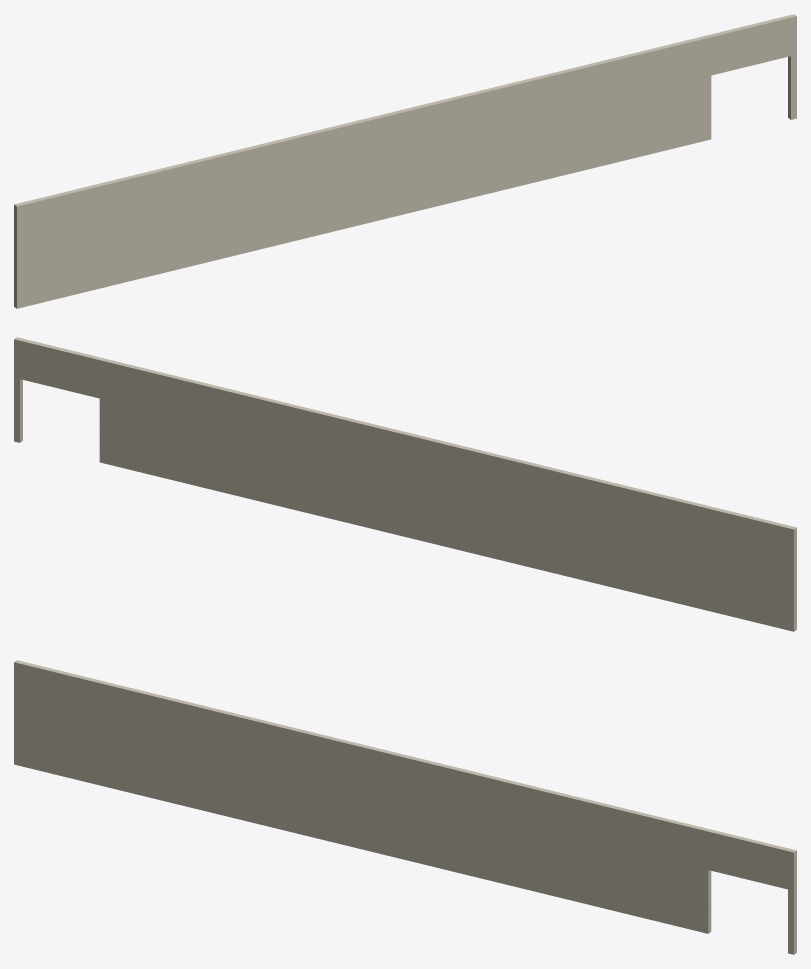
The model's file is STAR_ATLAS_D17_STANDARD_PORTAL_r001.glb.
3 renders of one model, top to bottom at view 1: azimuth 30°, elevation 25°; view 2: azimuth 150°, elevation 25°; view 3: azimuth 330°, elevation 25°, orthographic.
Parts seen in each view (by area): view 1: D17_StandardPortal_WestRetainedWall, D17_StandardPortal_RetainedHeader, D17_StandardPortal_EastRetainedWall; view 2: D17_StandardPortal_WestRetainedWall, D17_StandardPortal_RetainedHeader, D17_StandardPortal_EastRetainedWall; view 3: D17_StandardPortal_WestRetainedWall, D17_StandardPortal_RetainedHeader, D17_StandardPortal_EastRetainedWall.
Boxes of the visible parts, x1,y1,x2,y2 form: D17_StandardPortal_WestRetainedWall: (14, 35, 711, 308); D17_StandardPortal_RetainedHeader: (708, 15, 790, 75); D17_StandardPortal_EastRetainedWall: (788, 14, 796, 119); D17_StandardPortal_WestRetainedWall: (99, 358, 796, 631); D17_StandardPortal_RetainedHeader: (20, 338, 102, 398); D17_StandardPortal_EastRetainedWall: (14, 337, 22, 442); D17_StandardPortal_WestRetainedWall: (14, 660, 711, 933); D17_StandardPortal_RetainedHeader: (708, 829, 790, 889); D17_StandardPortal_EastRetainedWall: (788, 849, 796, 954).
Bounding box in the file's own units: 34 × 4.26 × 0.22.
Materials: 1 (1 with a texture image).
